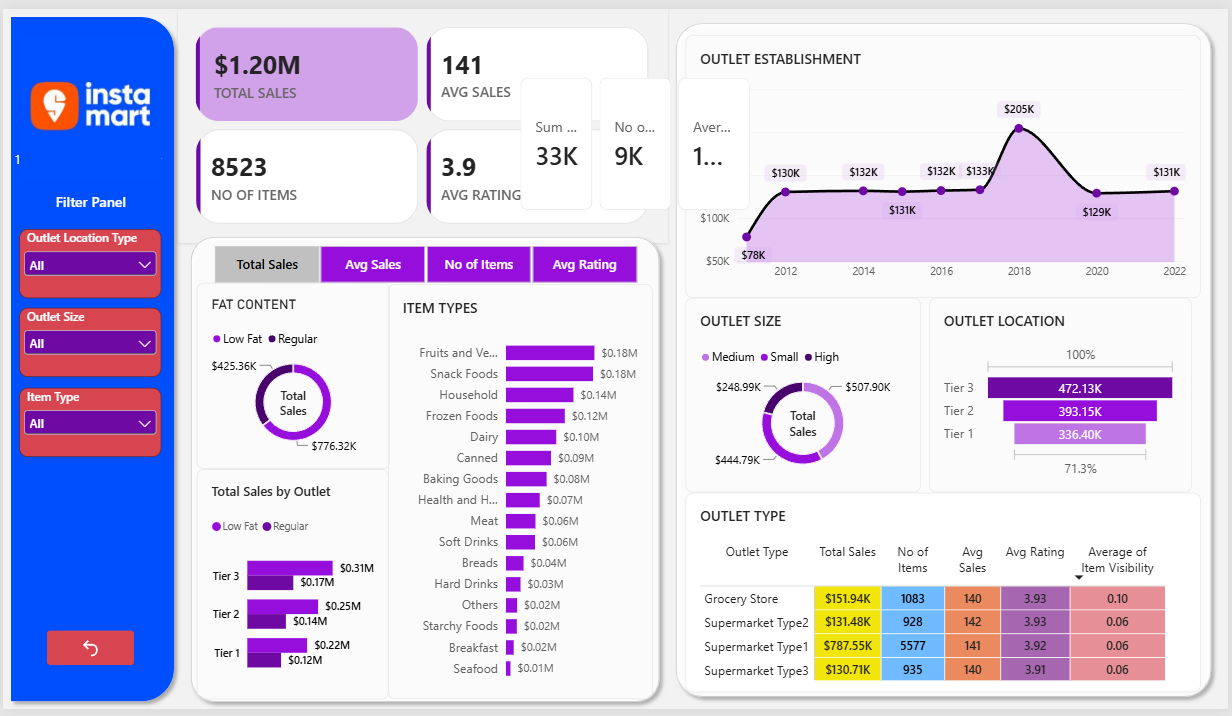

What the dashboard file says about the page in this screenshot:
{"tool":"powerbi","page":{"name":"Page 1","canvas":[1400,800],"ordinal":0},"visuals":[{"type":"shape","box":[0,0,204.5,800.3],"z":0},{"type":"textbox","box":[12.5,161,169.1,36.8],"z":2000},{"type":"cardVisual","fields":{"Data":["BlinkIT Grocery Data.Total Sales","BlinkIT Grocery Data.Avg Sales","BlinkIT Grocery Data.No of Items","BlinkIT Grocery Data.Avg Rating"]},"box":[199.6,0,559.8,267.2],"z":3000},{"type":"shape","box":[205.9,250.9,553.5,549.4],"z":4000},{"type":"donutChart","title":"FAT CONTENT","fields":{"Category":["BlinkIT Grocery Data.Item Fat Content"],"Y":["BlinkIT Grocery Data.Total Sales"]},"box":[220.9,313.6,220.9,212.7],"z":5000},{"type":"slicer","fields":{"Values":["Metrics.Metrics"]},"box":[220.7,268,521.8,45.7],"z":6000},{"type":"clusteredBarChart","title":"Total Sales by Outlet ","fields":{"Category":["BlinkIT Grocery Data.Outlet Location Type"],"Series":["BlinkIT Grocery Data.Item Fat Content"],"Y":["BlinkIT Grocery Data.Total Sales"]},"box":[220.9,526.2,219.5,263.1],"z":8000},{"type":"barChart","title":"ITEM TYPES","fields":{"Category":["BlinkIT Grocery Data.Item Type"],"Y":["BlinkIT Grocery Data.Total Sales"]},"box":[440.4,314.9,302.7,474.4],"z":9000},{"type":"shape","box":[759.4,6.8,629.9,788],"z":10000},{"type":"lineChart","title":"OUTLET ESTABLISHMENT","fields":{"Category":["BlinkIT Grocery Data.Outlet Establishment Year"],"Y":["BlinkIT Grocery Data.Total Sales"]},"box":[779.8,30,589,299.9],"z":11000},{"type":"donutChart","title":"OUTLET SIZE","fields":{"Category":["BlinkIT Grocery Data.Outlet Size"],"Y":["BlinkIT Grocery Data.Total Sales"]},"box":[779.8,329.9,268.6,222.2],"z":12000},{"type":"funnel","title":"OUTLET LOCATION","fields":{"Category":["BlinkIT Grocery Data.Outlet Location Type"],"Y":["Sum(BlinkIT Grocery Data.Sales)"]},"box":[1057.9,329.9,299.9,222.2],"z":13000},{"type":"pivotTable","title":"OUTLET TYPE","fields":{"Rows":["BlinkIT Grocery Data.Outlet Type"],"Values":["BlinkIT Grocery Data.Total Sales","BlinkIT Grocery Data.No of Items","BlinkIT Grocery Data.Avg Sales","BlinkIT Grocery Data.Avg Rating","Avg(BlinkIT Grocery Data.Item Visibility)"]},"box":[779.8,552.2,589,227.7],"z":14000},{"type":"slicer","fields":{"Values":["BlinkIT Grocery Data.Outlet Location Type"]},"box":[19.1,250.9,162.2,79.1],"z":15000},{"type":"slicer","fields":{"Values":["BlinkIT Grocery Data.Outlet Size"]},"box":[19.1,340.8,162.2,79.1],"z":16000},{"type":"slicer","fields":{"Values":["BlinkIT Grocery Data.Item Type"]},"box":[19.1,432.2,162.2,79.1],"z":17000},{"type":"textbox","box":[20.5,208.6,160.9,27.3],"z":18000},{"type":"actionButton","box":[50.5,709.5,100,40],"z":20000},{"type":"cardVisual","fields":{"Data":["Sum(BlinkIT Grocery Data (2).Rating)","BlinkIT Grocery Data.No of Items","Avg(BlinkIT Grocery Data (2).Sales)"]},"box":[591.7,79.1,264.5,151.3],"z":20001},{"type":"image","box":[18,0,162.3,223.4],"z":20002}]}

Visuals, with their boxes in screenshot pixels (x1, y1, x2, y2), scaled from the page's 1400x800 canvas onto the 1232x716 screenshot:
shape: [0,0,180,715]
textbox: [11,144,160,177]
cardVisual - BlinkIT Grocery Data.Total Sales x BlinkIT Grocery Data.Avg Sales: [176,0,668,239]
shape: [181,225,668,715]
"FAT CONTENT" donutChart: [194,281,389,471]
slicer - Metrics.Metrics: [194,240,653,281]
"Total Sales by Outlet " clusteredBarChart: [194,471,388,706]
"ITEM TYPES" barChart: [388,282,654,706]
shape: [668,6,1223,711]
"OUTLET ESTABLISHMENT" lineChart: [686,27,1205,295]
"OUTLET SIZE" donutChart: [686,295,923,494]
"OUTLET LOCATION" funnel: [931,295,1195,494]
"OUTLET TYPE" pivotTable: [686,494,1205,698]
slicer - BlinkIT Grocery Data.Outlet Location Type: [17,225,160,295]
slicer - BlinkIT Grocery Data.Outlet Size: [17,305,160,376]
slicer - BlinkIT Grocery Data.Item Type: [17,387,160,458]
textbox: [18,187,160,211]
actionButton: [44,635,132,671]
cardVisual - Sum(BlinkIT Grocery Data (2).Rating) x BlinkIT Grocery Data.No of Items: [521,71,753,206]
image: [16,0,159,200]
